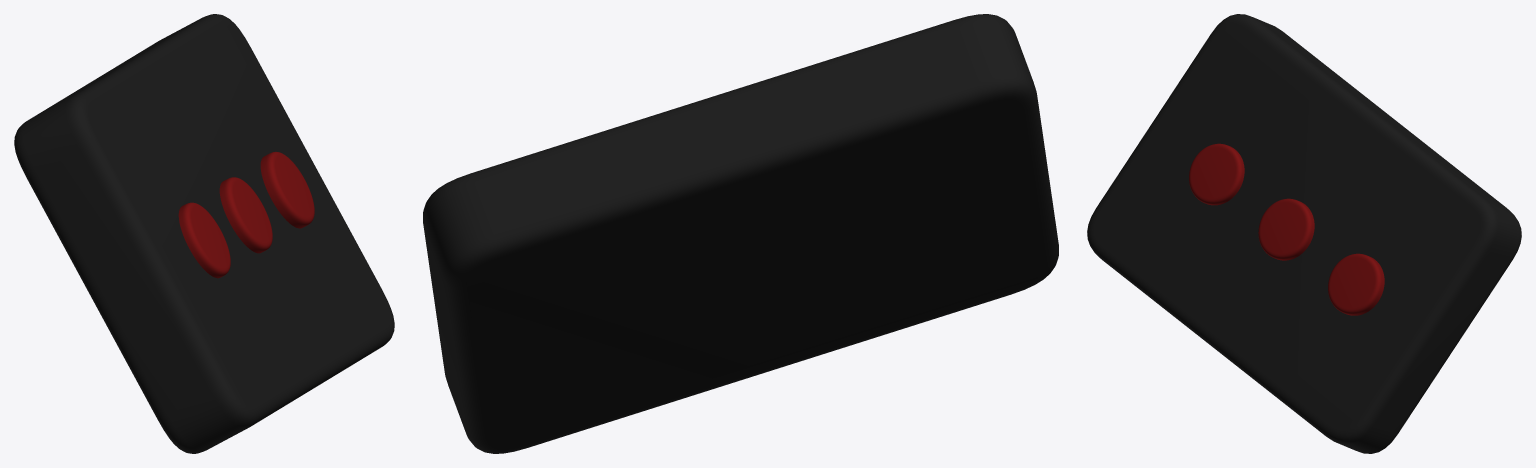
The model's file is Social.glb.
3 views of the same model, side by side, from view 1: azimuth 30°, elevation 25°; view 2: azimuth 150°, elevation 25°; view 3: azimuth 270°, elevation 25° (orthographic). The views are drawn at different scales.
Parts seen in each view (by area): view 1: Box003; view 2: Box003; view 3: Box003.
Boxes of the visible parts, box(x1,y1,x2,y2) form: Box003: box(14, 14, 394, 453); Box003: box(423, 14, 1058, 453); Box003: box(1087, 14, 1521, 453).
Size of the model in its own units: 0.0455 by 0.0402 by 0.0509.
